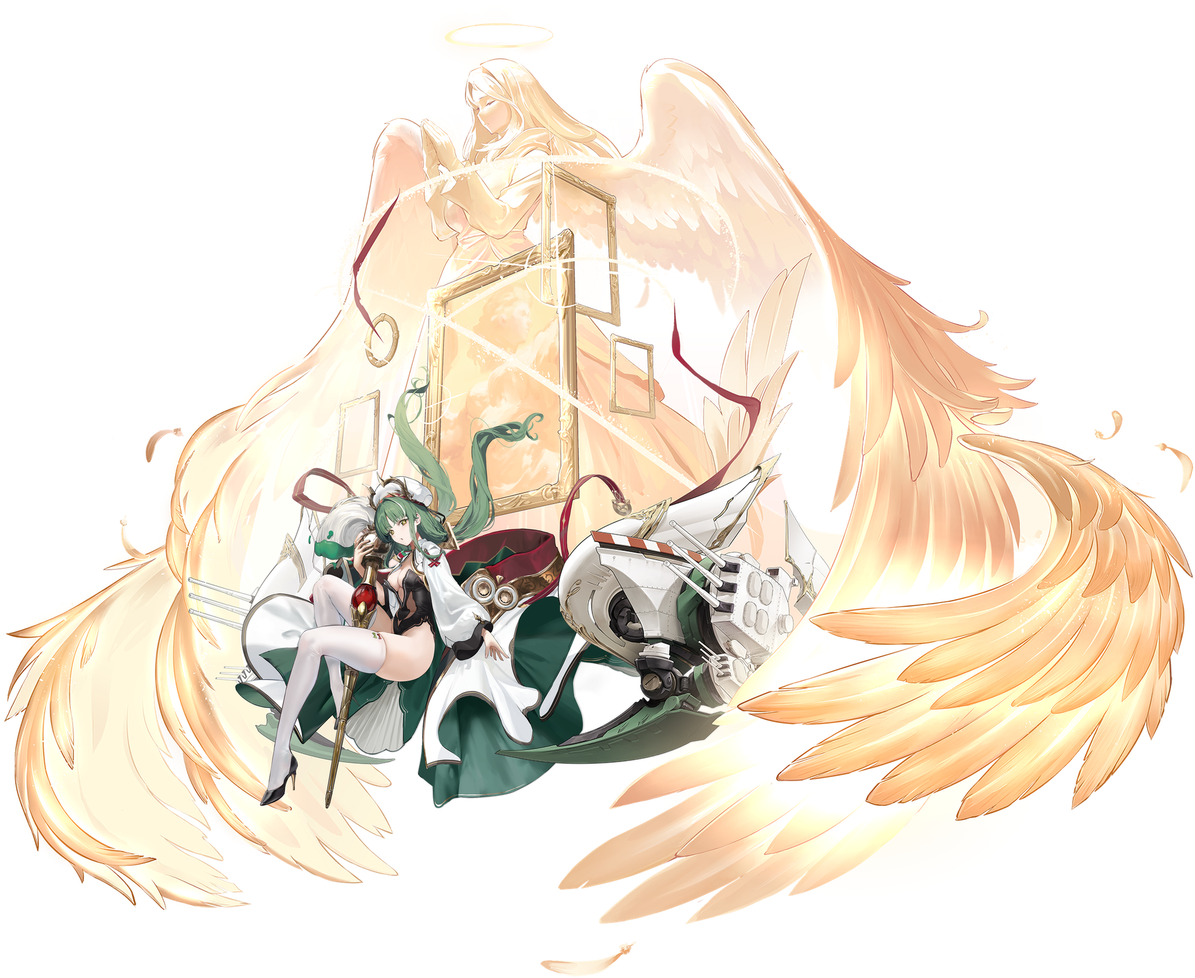person: (225, 447, 483, 846)
